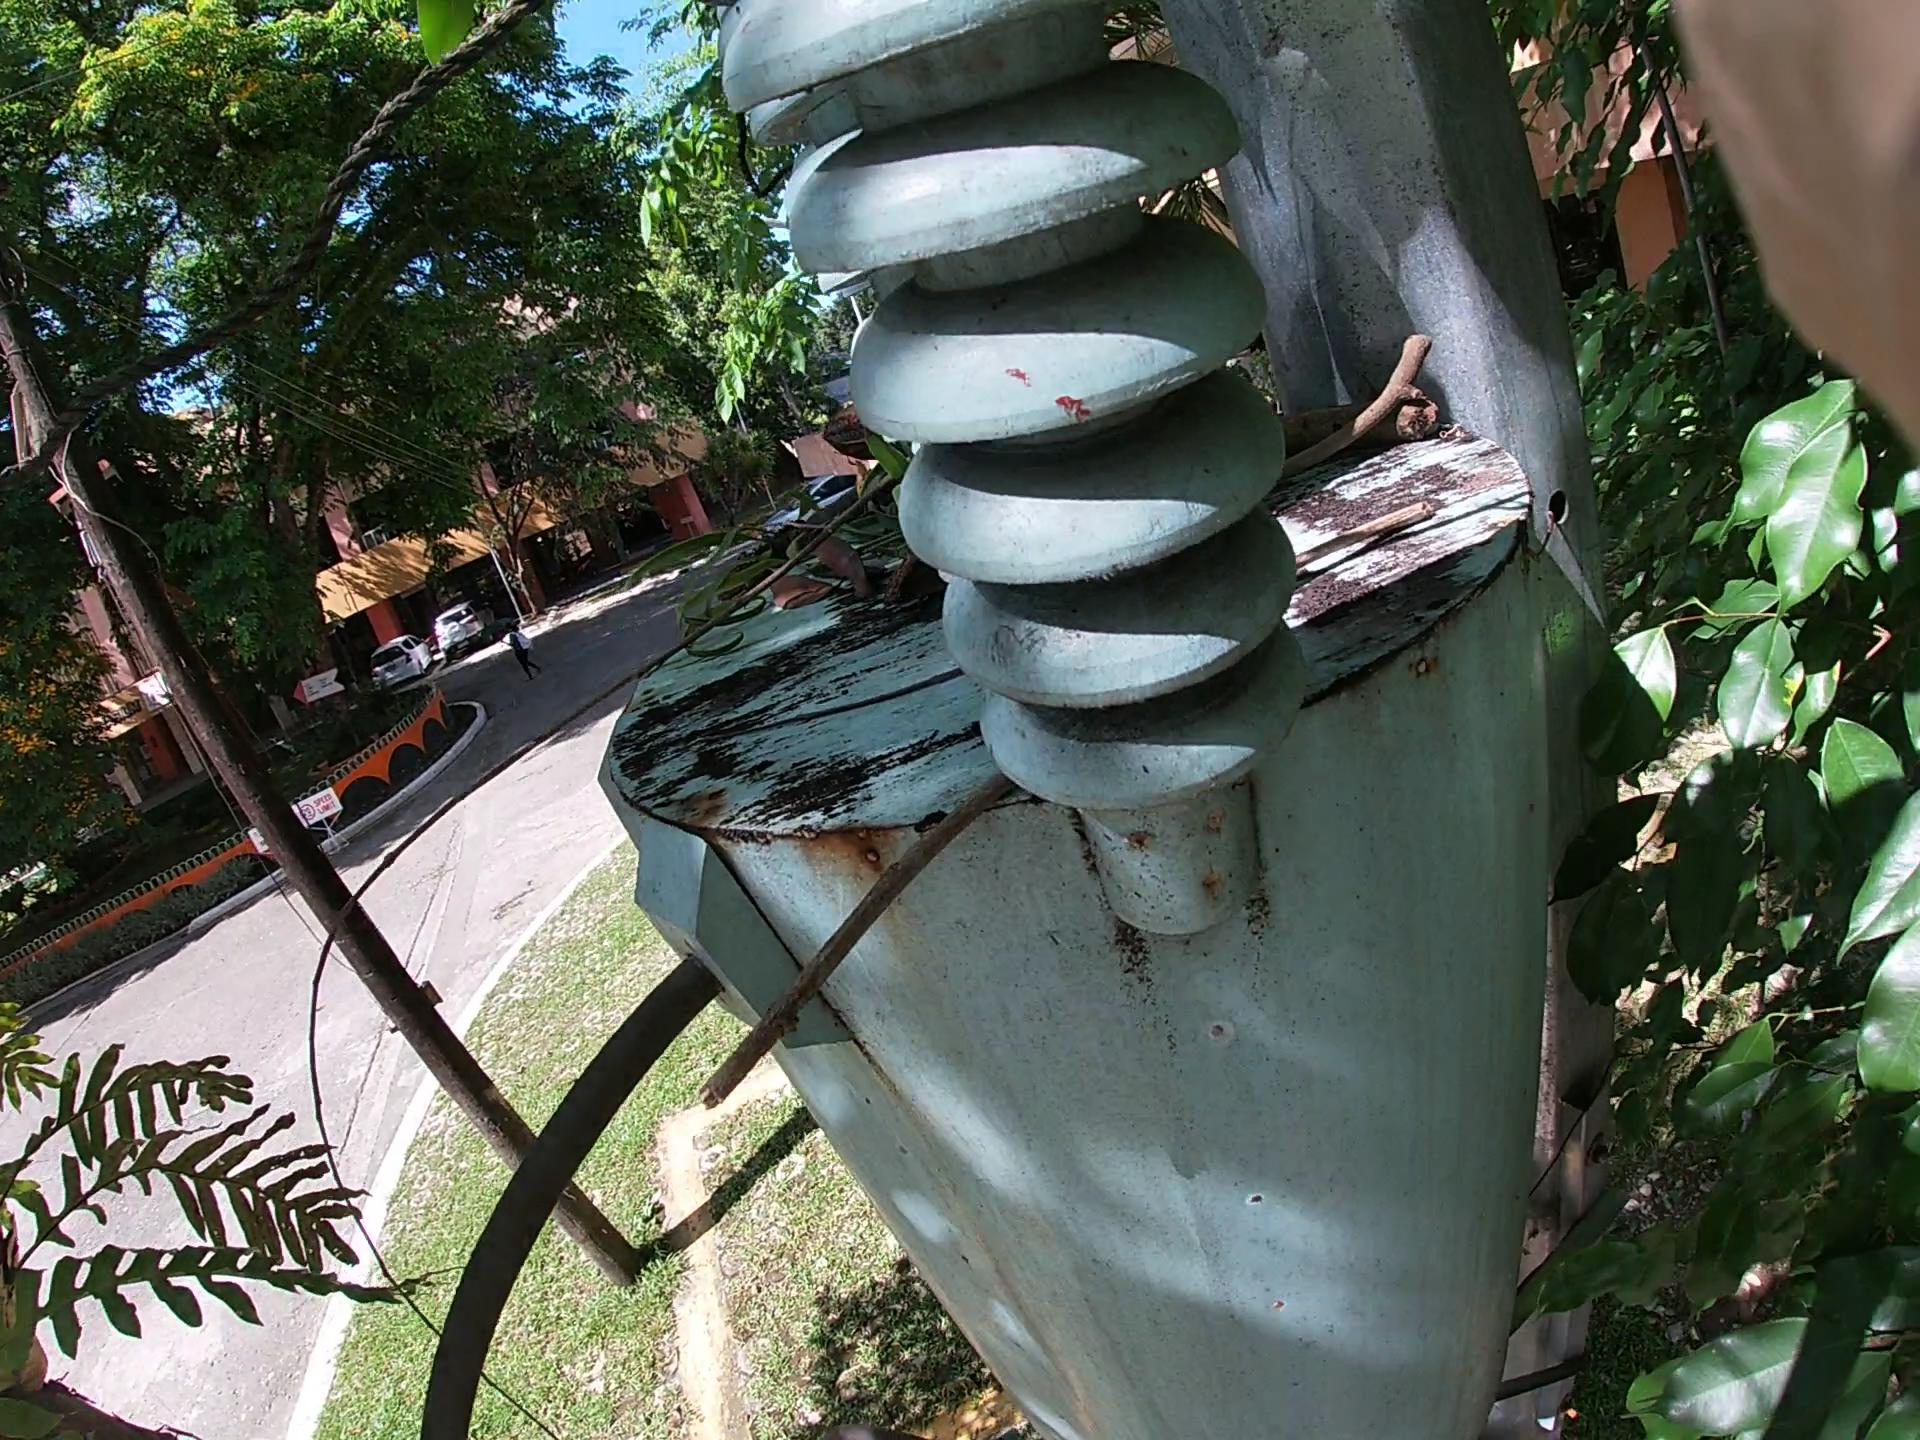branch with leaves: (671, 386, 1625, 545)
leaf: (730, 513, 903, 632)
tree branch: (319, 280, 1294, 1209), (741, 517, 1397, 1080), (1274, 355, 1451, 483)
